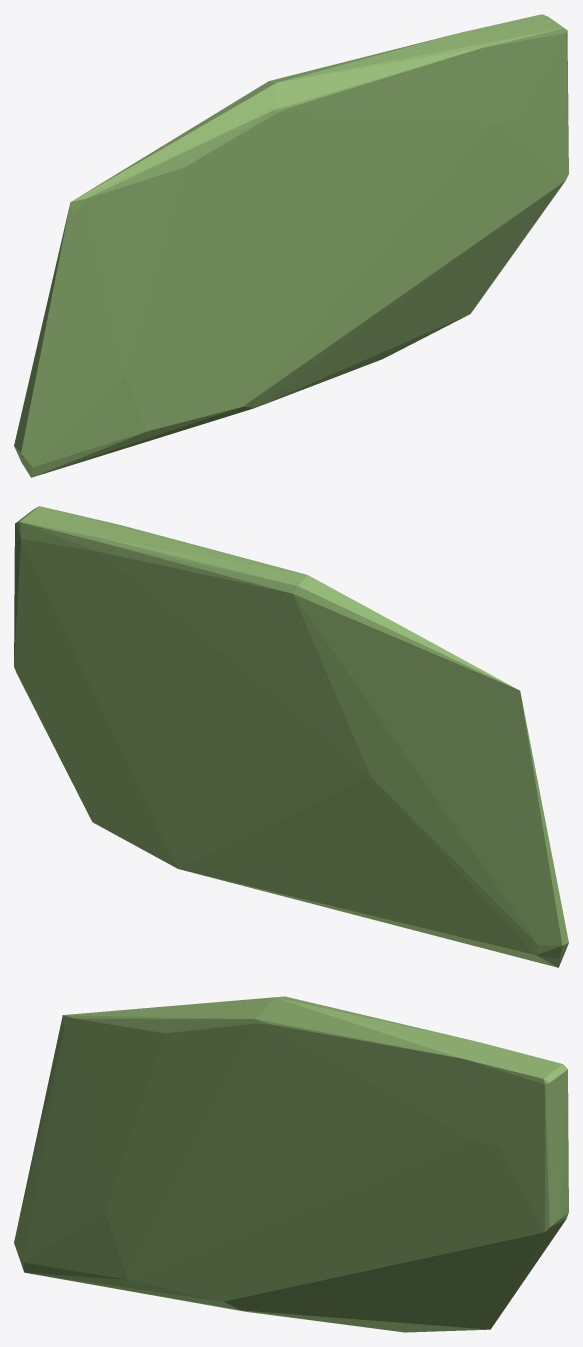
File: equipment_surgeProtector_batteryClamp_b01.glb
3 views of the same model, one above another, from view 1: azimuth 30°, elevation 25°; view 2: azimuth 150°, elevation 25°; view 3: azimuth 330°, elevation 25° (orthographic).
Visible parts, largest first — view 1: geometry_0; view 2: geometry_0; view 3: geometry_0.
Part boxes in pixels (bbox=[...]): geometry_0: bbox=[14, 14, 568, 477]; geometry_0: bbox=[14, 506, 568, 967]; geometry_0: bbox=[14, 996, 568, 1332].
Size of the model in its own units: 0.4799 by 0.2818 by 0.0347.
